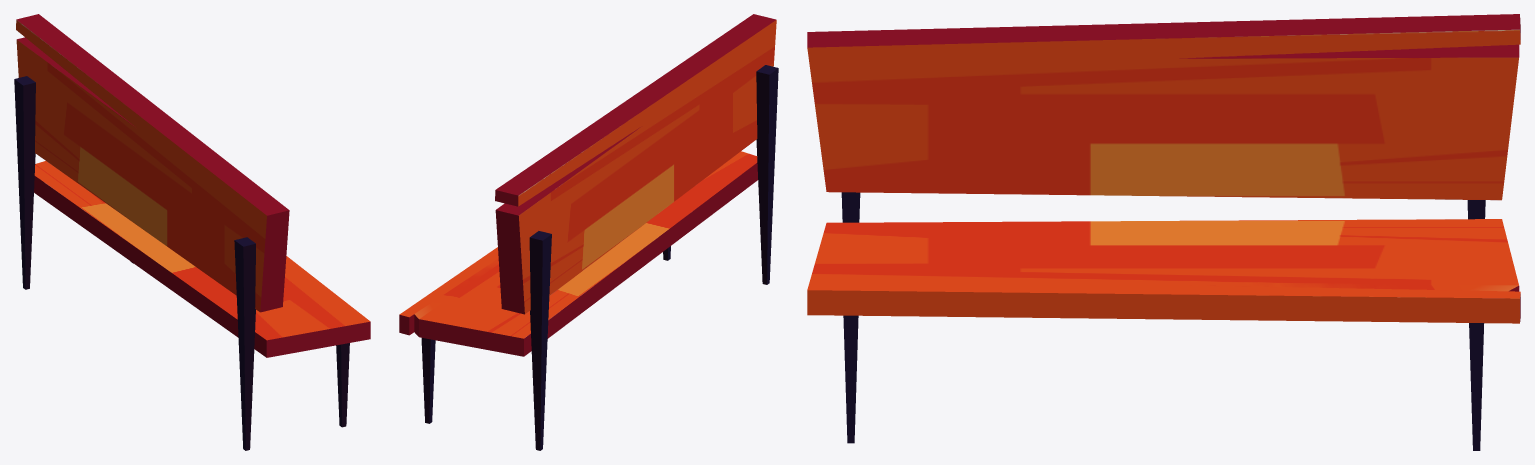
File: bench.fbx
The picture shows the model from 3 angles, left to right: view 1: azimuth 30°, elevation 25°; view 2: azimuth 150°, elevation 25°; view 3: azimuth 270°, elevation 25°; orthographic projection. The views are drawn at different scales.
Parts seen in each view (by area): view 1: Bank.001_Others_0; view 2: Bank.001_Others_0; view 3: Bank.001_Others_0.
Boxes of the visible parts, left/top/right/bottom form: Bank.001_Others_0: left=14, top=14, right=370, bottom=450; Bank.001_Others_0: left=399, top=14, right=778, bottom=450; Bank.001_Others_0: left=807, top=14, right=1520, bottom=450.
Bounding box in the file's own units: 9.48 × 18.06 × 32.05.
